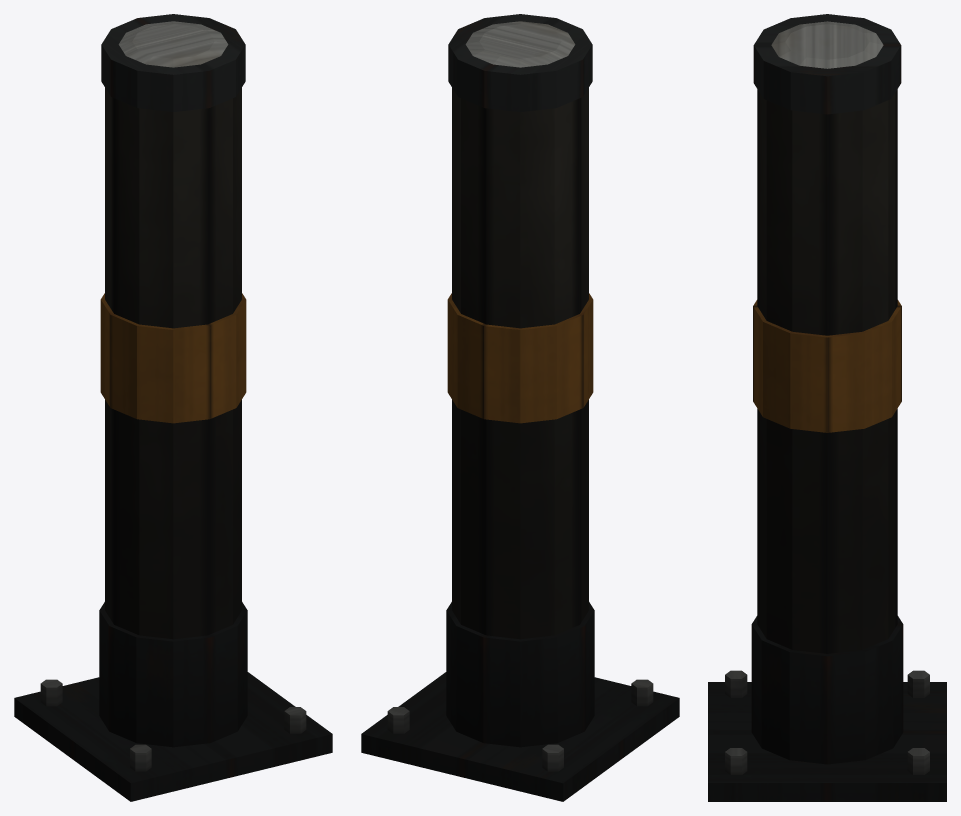
The model's file is bollard.glb.
3 renders of one model, left to right at view 1: azimuth 30°, elevation 25°; view 2: azimuth 150°, elevation 25°; view 3: azimuth 270°, elevation 25°, orthographic. The views are drawn at different scales.
Parts seen in each view (by area): view 1: bollard; view 2: bollard; view 3: bollard.
Part boxes in pixels (x1,y1,x2,y2): bollard: [14, 14, 332, 801]; bollard: [361, 14, 679, 801]; bollard: [708, 14, 946, 801].
Bounding box in the file's own units: 0.34 × 1.12 × 0.34.
